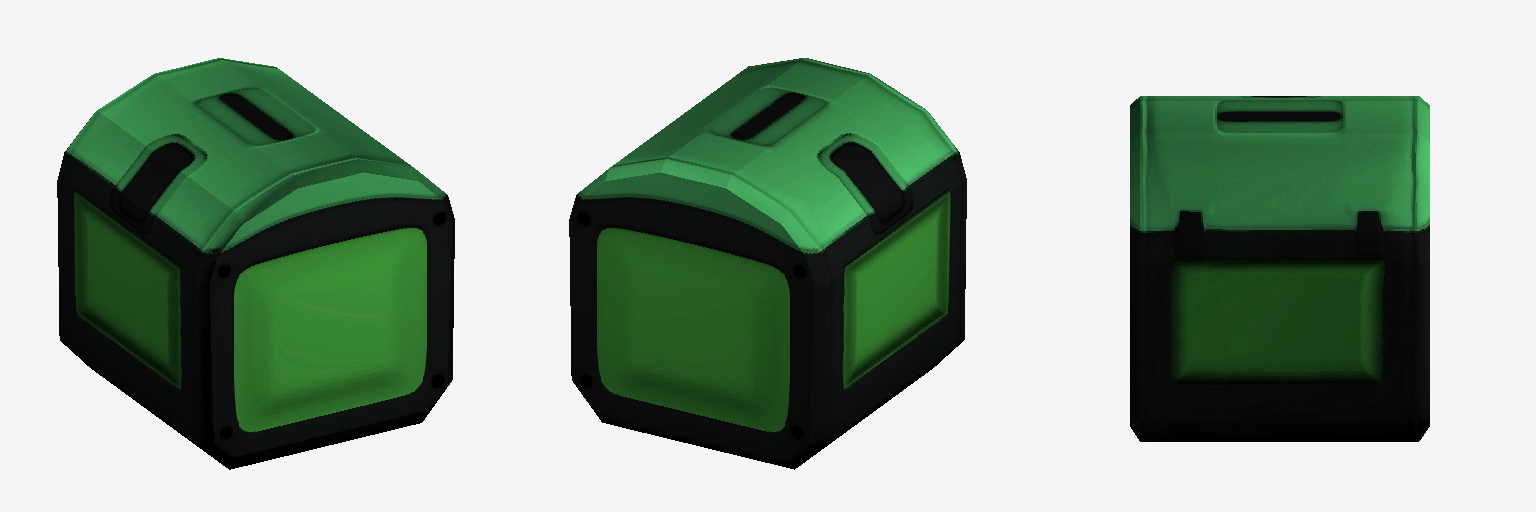
3 views of the same model, side by side, from view 1: azimuth 30°, elevation 25°; view 2: azimuth 150°, elevation 25°; view 3: azimuth 270°, elevation 25° (orthographic).
Parts seen in each view (by area): view 1: Green_Cube.009; view 2: Green_Cube.009; view 3: Green_Cube.009.
Boxes of the visible parts, box(x1,y1,x2,y2) form: Green_Cube.009: box(57, 58, 454, 469); Green_Cube.009: box(569, 58, 966, 469); Green_Cube.009: box(1130, 96, 1429, 441).
Size of the model in its own units: 1.97 by 2.03 by 1.98.
Materials: 1 (1 with a texture image).